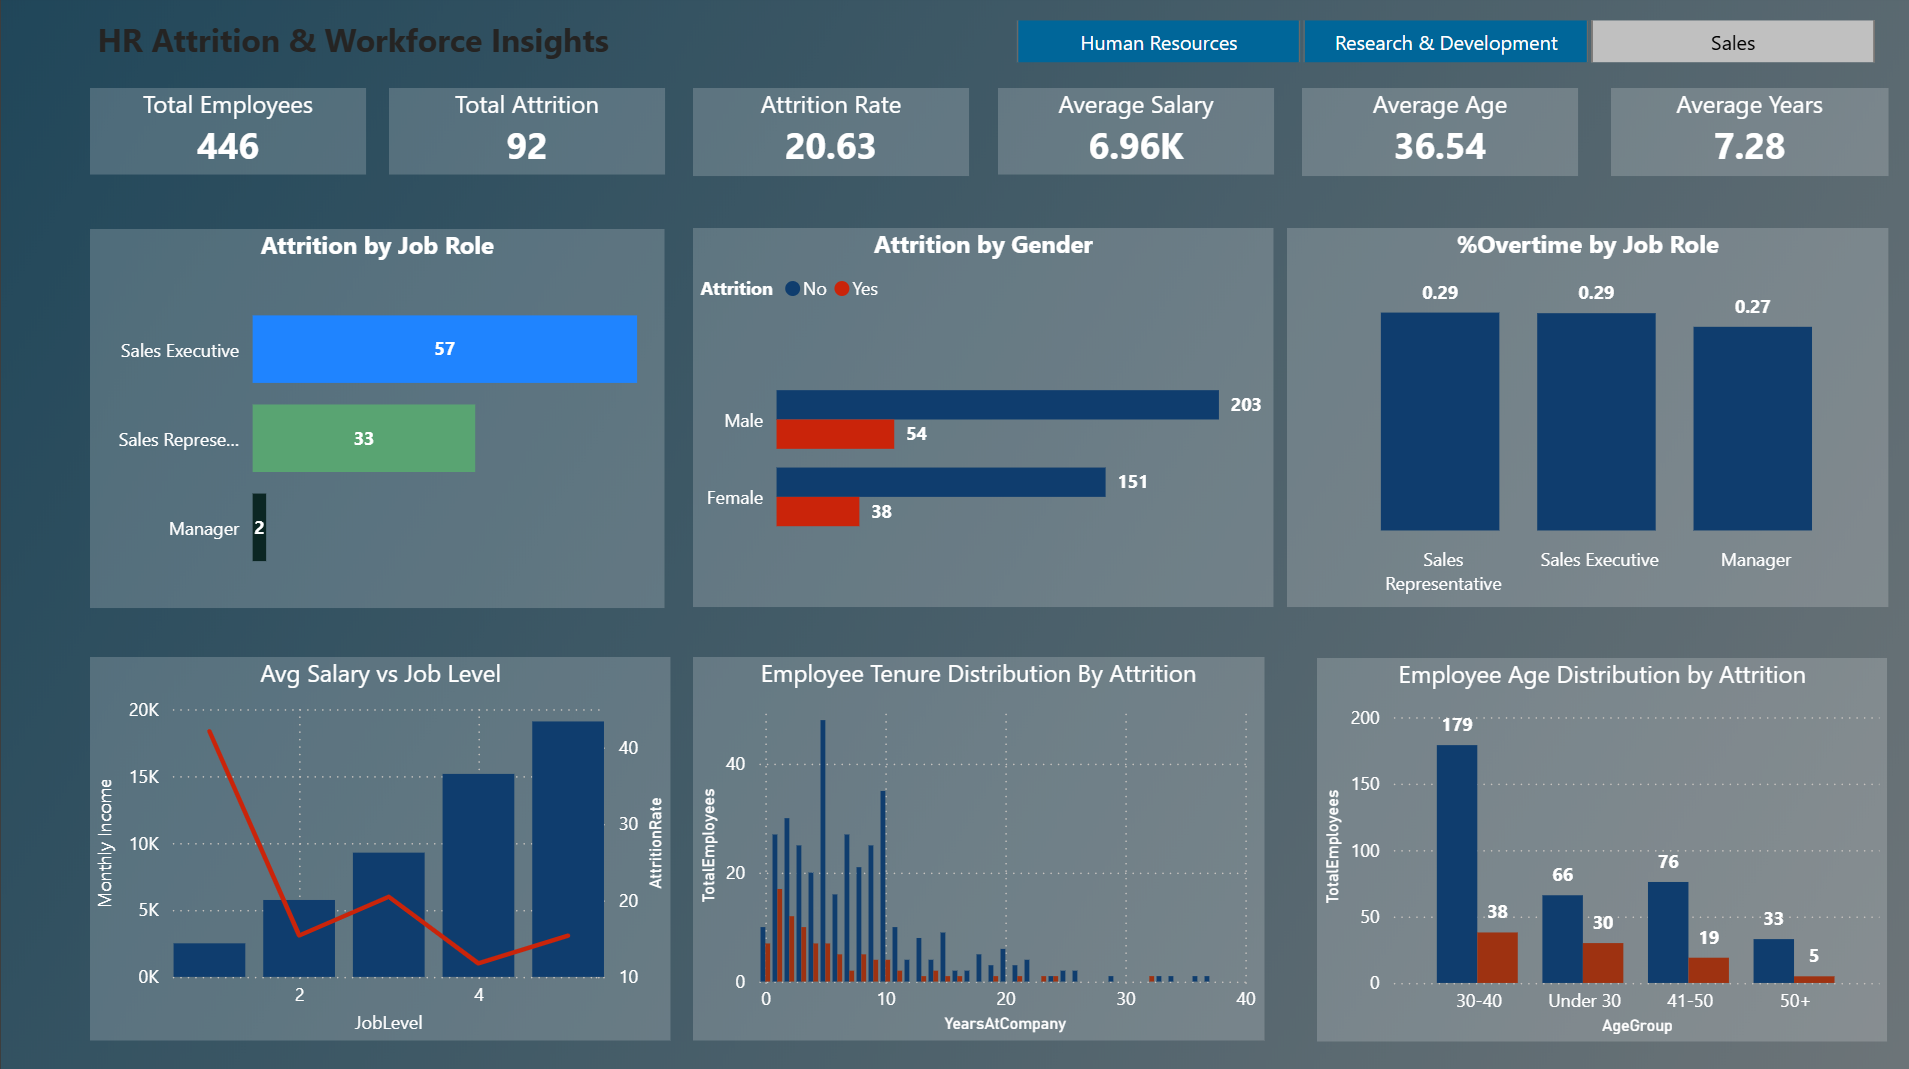

The dashboard page shown, as its layout file describes it:
{"tool":"powerbi","page":{"name":"HR attrition","canvas":[1280,720],"ordinal":0},"visuals":[{"type":"card","title":"Total Employees","fields":{"Values":["HR_DATA.TotalEmployees"]},"box":[59.7,61.4,184.9,57.9],"z":0},{"type":"card","title":"Attrition Rate","fields":{"Values":["HR_DATA.AttritionRate"]},"box":[463.6,61.4,184.9,58.8],"z":1000},{"type":"card","title":"Average Salary","fields":{"Values":["HR_DATA.AvgMonthlyIncome"]},"box":[668.1,61.4,184.9,57.9],"z":2000},{"type":"clusteredBarChart","title":"Attrition by Gender","fields":{"Category":["HR_DATA.Gender"],"Y":["HR_DATA.TotalEmployees"],"Series":["HR_DATA.Attrition"]},"box":[463.7,155.6,389.4,253.7],"z":3000},{"type":"barChart","title":"Attrition by Job Role","fields":{"Category":["HR_DATA.JobRole"],"Series":["HR_DATA.JobRole"],"Y":["Sum(HR_DATA.AttritionFlag)"]},"box":[59.7,156,385.2,254],"z":4000},{"type":"card","title":"Total Attrition","fields":{"Values":["HR_DATA.TotalAttrition"]},"box":[259.9,61.4,184.9,57.9],"z":5000},{"type":"card","title":"Average Years ","fields":{"Values":["HR_DATA.AvgYearsAtCompany"]},"box":[1078.9,61.4,185.8,58.8],"z":6000},{"type":"textbox","box":[59.8,9.2,543.4,42.2],"z":7000},{"type":"card","title":"Average Age","fields":{"Values":["HR_DATA.Average Age"]},"box":[871.8,61.4,184.9,58.8],"z":8000},{"type":"clusteredColumnChart","title":"%Overtime by Job Role","fields":{"Y":["HR_DATA.PercentOverTime"],"Category":["HR_DATA.JobRole"]},"box":[861.5,155.6,403.2,253.7],"z":9000},{"type":"lineClusteredColumnComboChart","title":"Avg Salary vs Job Level","fields":{"Y":["HR_DATA.AvgMonthlyIncome"],"Y2":["HR_DATA.AttritionRate"],"Category":["HR_DATA.Job Level Label"]},"box":[59.7,443.1,389.5,257.4],"z":10000},{"type":"clusteredColumnChart","title":"Employee Tenure Distribution By Attrition","fields":{"Category":["HR_DATA.YearsAtCompany"],"Y":["HR_DATA.TotalEmployees"],"Series":["HR_DATA.Attrition"]},"box":[463.6,443.1,382.6,256.5],"z":11000},{"type":"slicer","fields":{"Values":["HR_DATA.Department"]},"box":[654.6,9.2,625.4,42.2],"z":12000},{"type":"clusteredColumnChart","title":"Employee Age Distribution by Attrition","fields":{"Y":["HR_DATA.TotalEmployees"],"Series":["HR_DATA.Attrition"],"Category":["HR_DATA.AgeGroup"]},"box":[882.2,443.8,382.5,256.8],"z":13000}]}

Visuals, with their boxes in screenshot pixels (x1, y1, x2, y2), scaled from the page's 1280x720 canvas onto the 1909x1069 screenshot:
"Total Employees" card: 89,91,365,177
"Attrition Rate" card: 691,91,967,178
"Average Salary" card: 996,91,1272,177
"Attrition by Gender" clusteredBarChart: 692,231,1272,608
"Attrition by Job Role" barChart: 89,232,664,609
"Total Attrition" card: 388,91,663,177
"Average Years " card: 1609,91,1886,178
textbox: 89,14,900,76
"Average Age" card: 1300,91,1576,178
"%Overtime by Job Role" clusteredColumnChart: 1285,231,1886,608
"Avg Salary vs Job Level" lineClusteredColumnComboChart: 89,658,670,1040
"Employee Tenure Distribution By Attrition" clusteredColumnChart: 691,658,1262,1039
slicer - HR_DATA.Department: 976,14,1908,76
"Employee Age Distribution by Attrition" clusteredColumnChart: 1316,659,1886,1040
